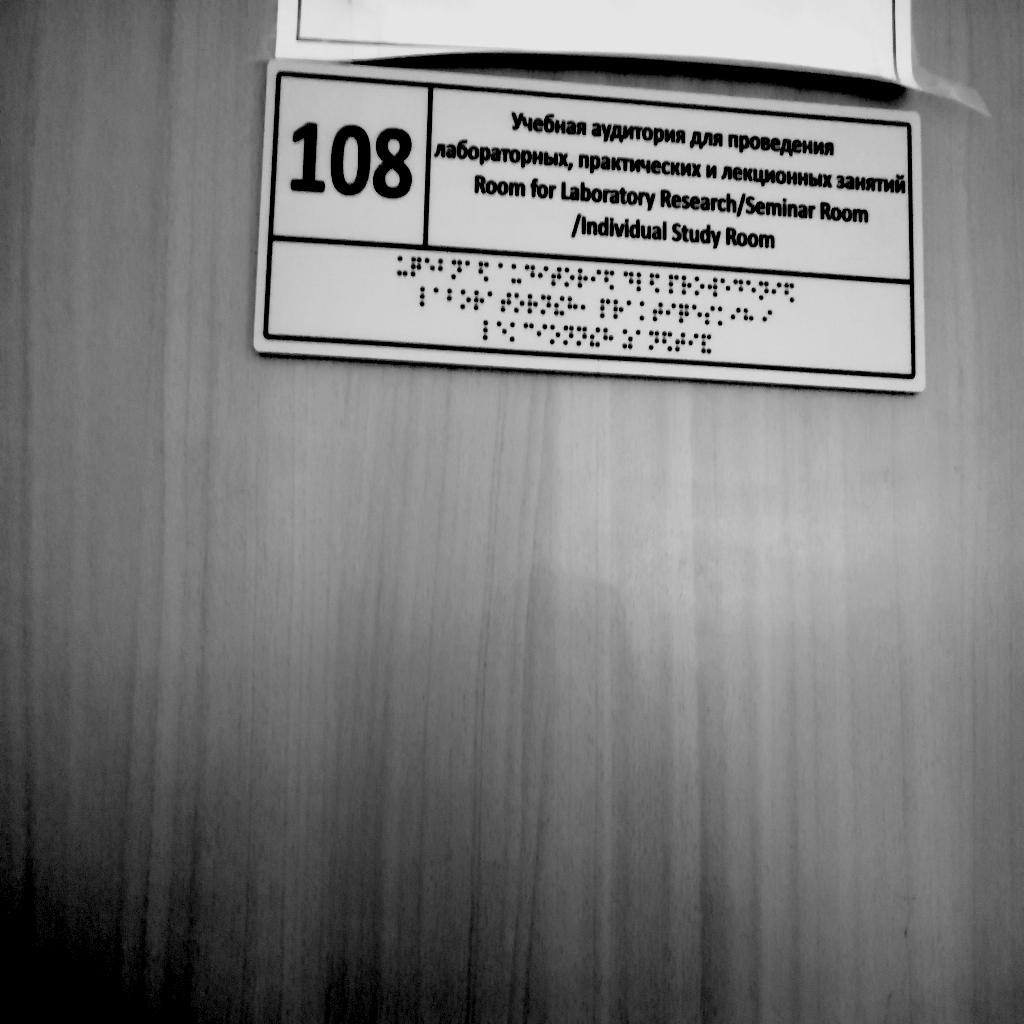_n: (541, 292, 553, 317), (451, 258, 463, 281), (563, 323, 574, 347), (577, 324, 588, 347), (649, 328, 660, 351), (759, 280, 770, 302)
_y: (397, 254, 408, 278), (511, 261, 522, 284)
a: (465, 259, 477, 283), (487, 289, 499, 312), (434, 286, 445, 309), (498, 262, 509, 284), (636, 328, 646, 349), (627, 299, 637, 319)
b: (447, 287, 459, 310), (438, 258, 448, 280)
c: (523, 320, 535, 343)
ch: (410, 255, 422, 278), (679, 301, 689, 324)
d: (733, 277, 744, 301), (525, 263, 536, 286), (624, 270, 634, 293)
e: (496, 319, 508, 342), (746, 278, 757, 302), (720, 277, 731, 300), (692, 302, 703, 325), (425, 257, 435, 279)
i: (538, 264, 549, 288), (537, 322, 548, 346), (591, 267, 602, 290), (771, 281, 782, 303), (688, 331, 699, 353), (763, 307, 773, 331), (666, 302, 677, 323), (731, 306, 741, 327)
iKratkoe: (702, 332, 713, 355)
ii: (554, 293, 565, 317), (590, 326, 601, 347)
k: (639, 299, 651, 321), (717, 305, 729, 327), (510, 321, 521, 343)
l: (420, 285, 432, 307), (636, 271, 648, 292), (483, 319, 494, 341)
o: (693, 274, 706, 297), (513, 290, 525, 314), (460, 288, 471, 311), (550, 323, 561, 346), (565, 266, 575, 288)
p: (600, 297, 611, 319), (669, 273, 679, 295)
r: (473, 288, 486, 312), (527, 291, 539, 315), (577, 266, 589, 289), (614, 298, 625, 321), (681, 274, 692, 296)
s: (705, 304, 716, 326)
t: (675, 330, 686, 354), (552, 265, 563, 288), (501, 290, 512, 313), (653, 300, 664, 323)
v: (707, 276, 719, 298)
x: (567, 295, 579, 318), (603, 326, 615, 349), (743, 307, 754, 330)
ya: (478, 259, 490, 283), (649, 271, 661, 295), (784, 281, 795, 305), (604, 268, 615, 291), (663, 329, 673, 352)
z: (623, 327, 634, 350)
zapyataya: (581, 296, 592, 319)
